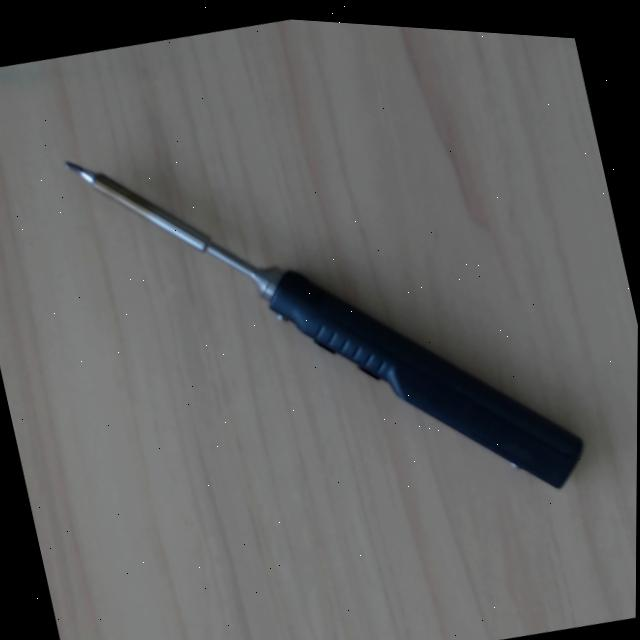Soldering-Iron: (50, 142, 588, 492)
